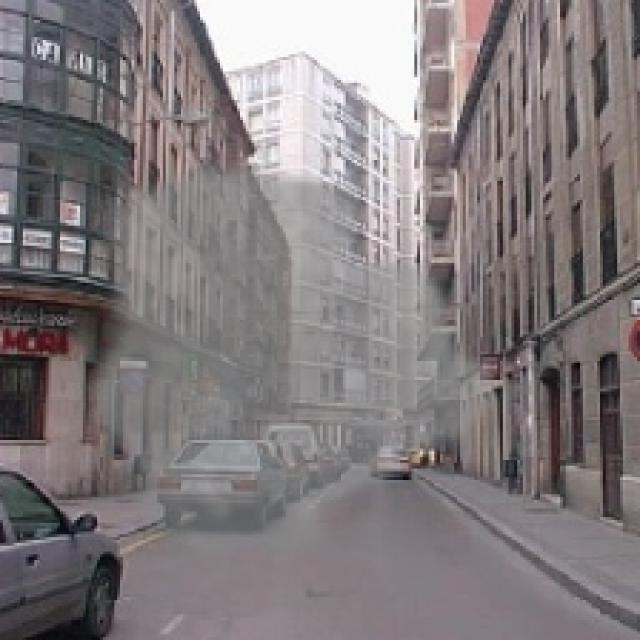smoke: (86, 155, 511, 574)
